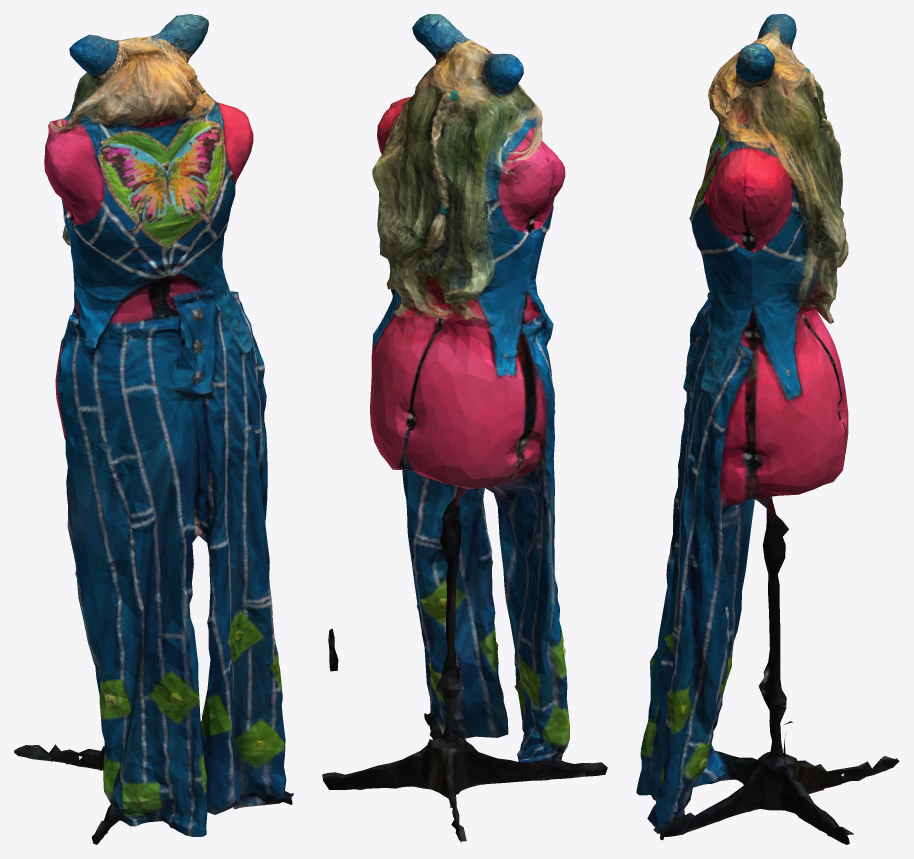
Rendered from jolyne.glb.
3 views of the same model, side by side, from view 1: azimuth 30°, elevation 25°; view 2: azimuth 150°, elevation 25°; view 3: azimuth 270°, elevation 25° (orthographic).
Bounding box in the file's own units: 0.2814 × 0.9154 × 0.2843.
1 material, 1 textured.
